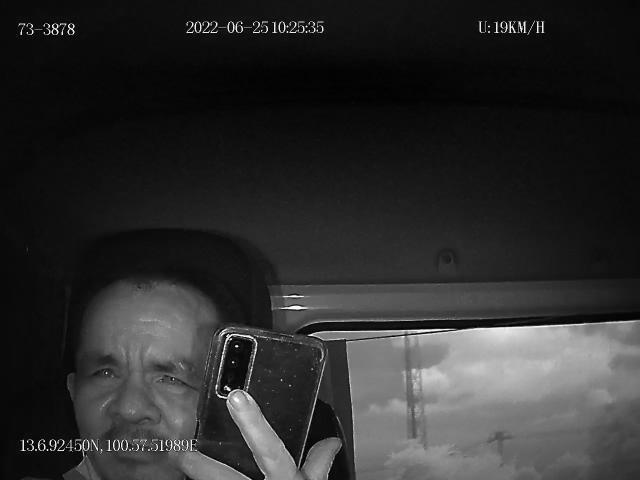PhoneUse: (198, 320, 330, 480)
SafeDriving: (146, 358, 198, 396), (82, 354, 126, 390)
